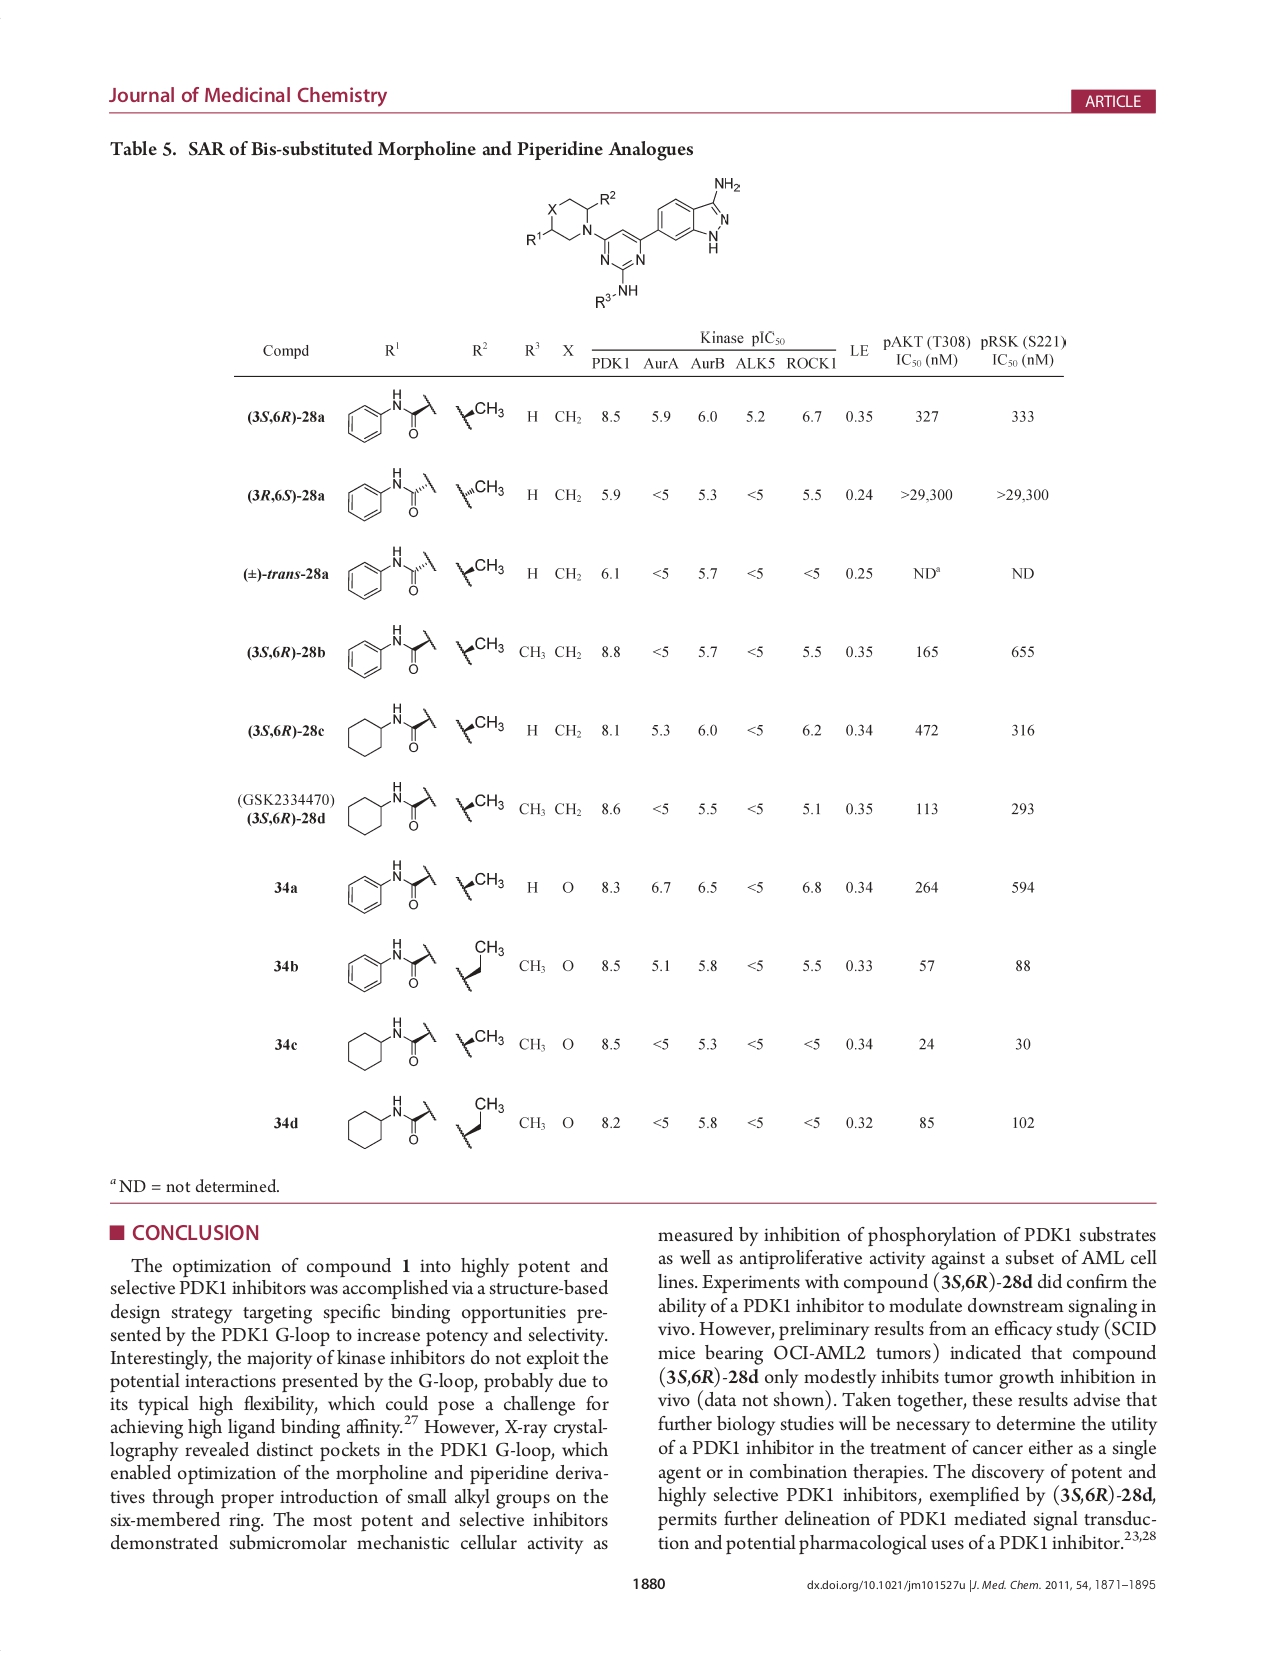exist_molecular: (520, 174, 743, 313), (340, 856, 438, 918), (343, 384, 438, 447), (346, 1013, 440, 1076), (344, 463, 438, 525), (344, 620, 438, 682), (342, 935, 438, 993), (344, 543, 438, 602), (344, 700, 436, 759), (344, 779, 438, 838), (344, 1094, 438, 1152), (449, 934, 505, 997), (453, 1094, 505, 1150), (453, 390, 508, 434), (451, 471, 505, 515), (449, 786, 505, 829), (449, 632, 507, 670), (453, 867, 505, 907), (451, 552, 505, 589), (453, 1025, 505, 1063), (453, 714, 505, 749)
